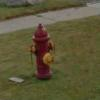Hydrant: (22, 18, 59, 83)
